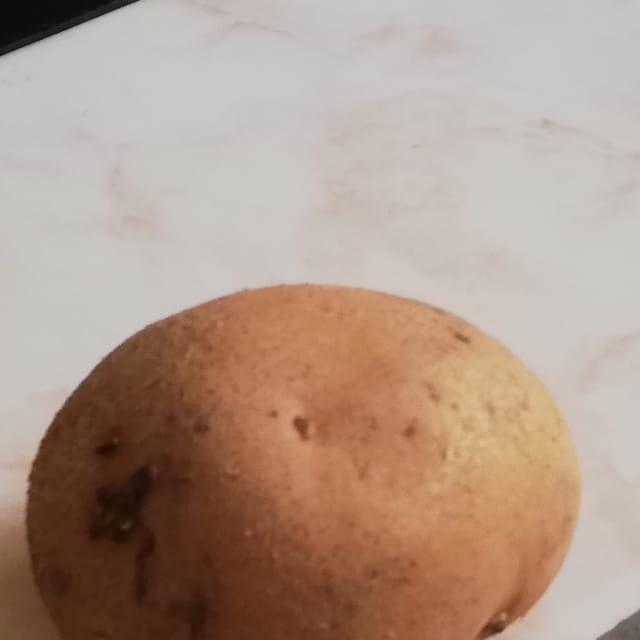potato: (5, 259, 608, 640)
